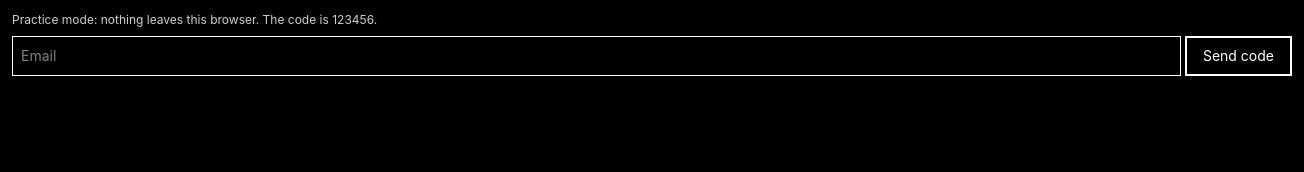
Scenario: the account panel › delete takes two presses, removes the account online, and leaves progress on this device
Type "ren@example.com" into the field labelled "Email".
click(596, 56); type("ren@example.com")  # box [12, 36, 1181, 76]
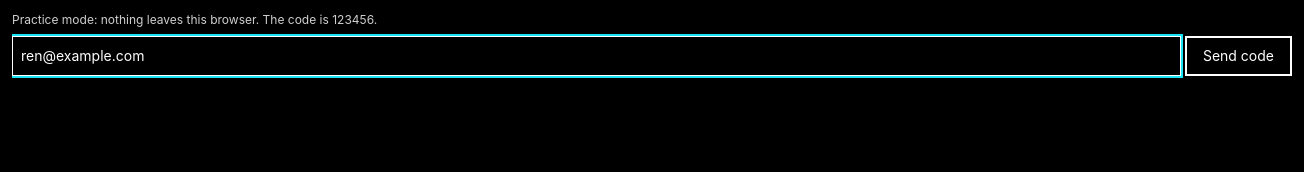
Click the button "Send code".
click(1238, 56)  # box [1185, 36, 1292, 76]
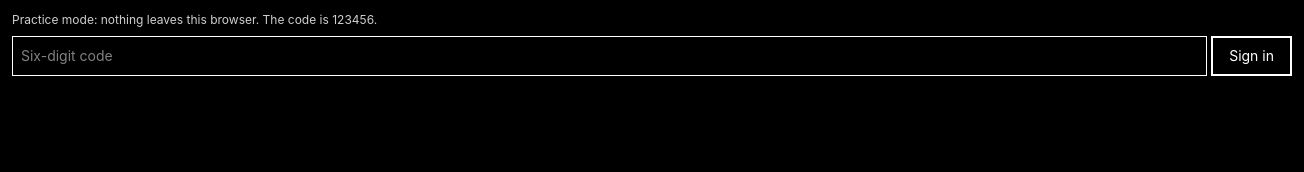
Type "123456" into the field labelled "Six-digit code".
click(610, 56); type("123456")  # box [12, 36, 1207, 76]
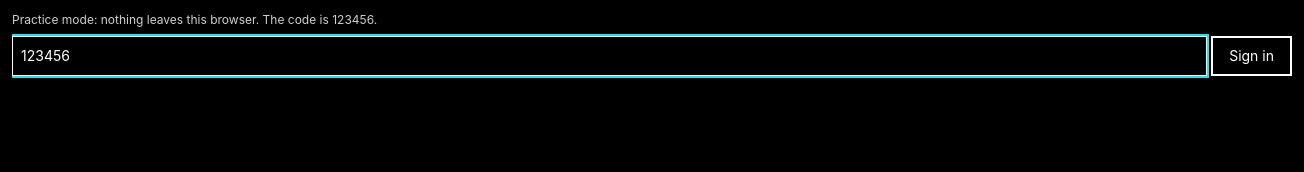
Click the button "Sign in".
click(1252, 56)  # box [1211, 36, 1292, 76]
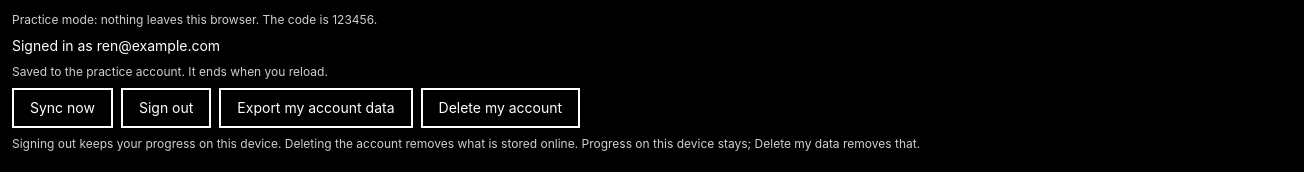
expect the text "Signed in as ren@example.com" is shown: met, box [12, 37, 220, 54]
Click the button "Delete my account".
click(500, 108)  # box [420, 88, 580, 128]
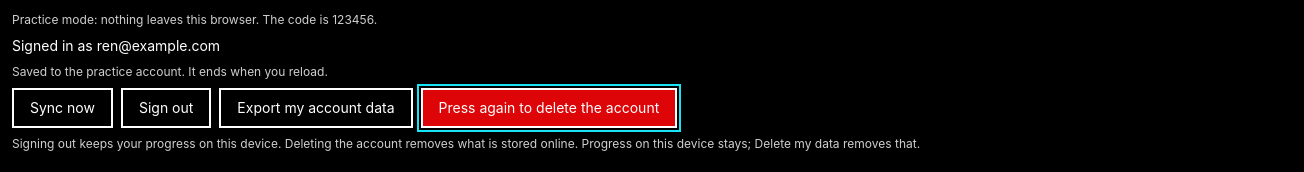
Click the button "Press again to delete the account".
click(549, 108)  # box [420, 88, 677, 128]
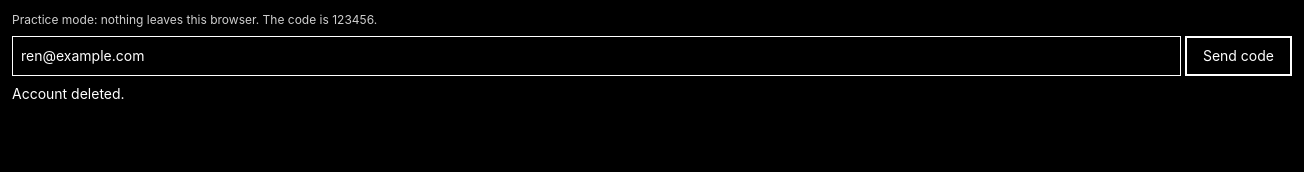
expect the text "Account deleted." is shown: met, box [12, 85, 125, 102]
